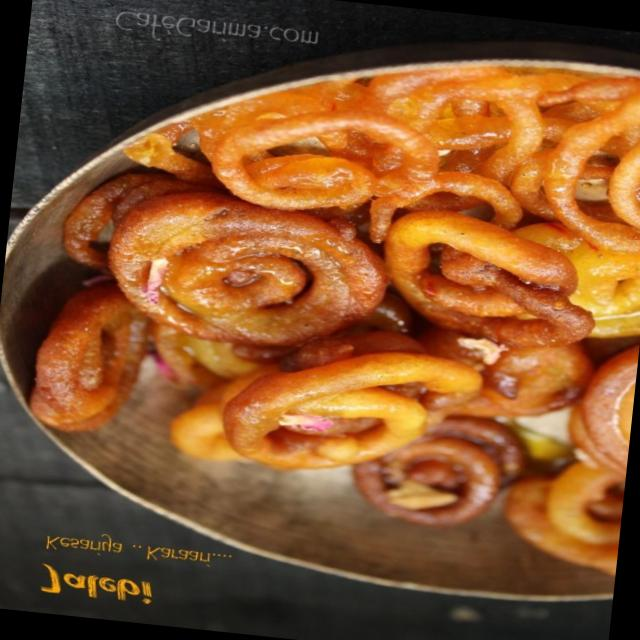jalebi: (16, 17, 640, 598)
